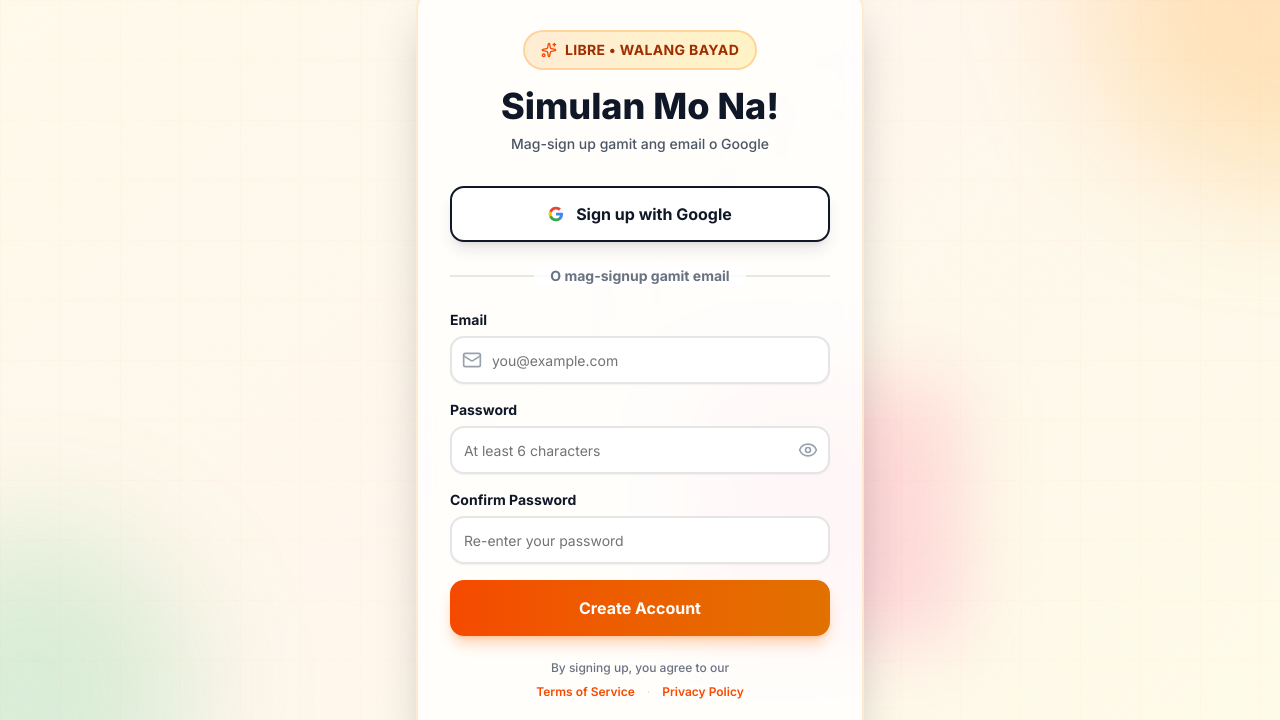
Test: Email Signup - SignupPage › shows friendly message on rate limit
The width and height of the screenshot is (1280, 720).
(page scrolled)
Step 1. Type "test@example.com" into the field labelled "Email" → (640,360), box x1=450 y1=336 x2=830 y2=384
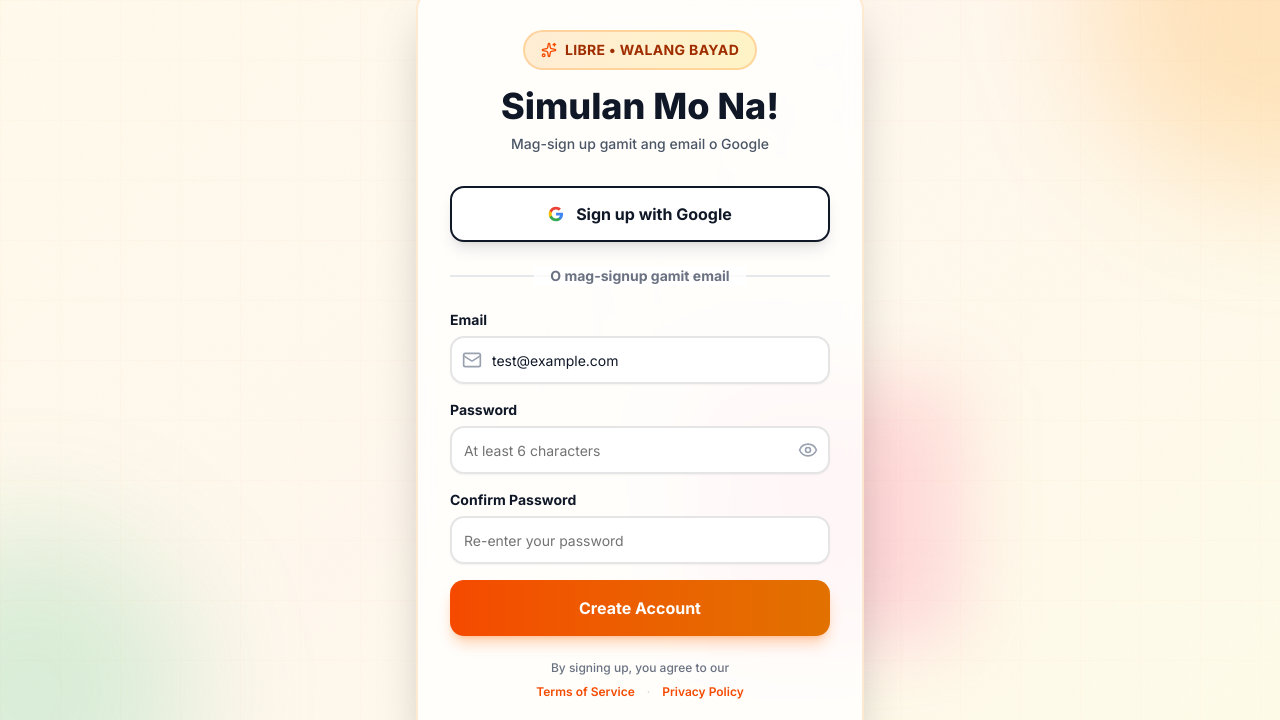
Step 2. Type "password123" into the password field labelled "Password" → (640,450), box x1=450 y1=426 x2=830 y2=474
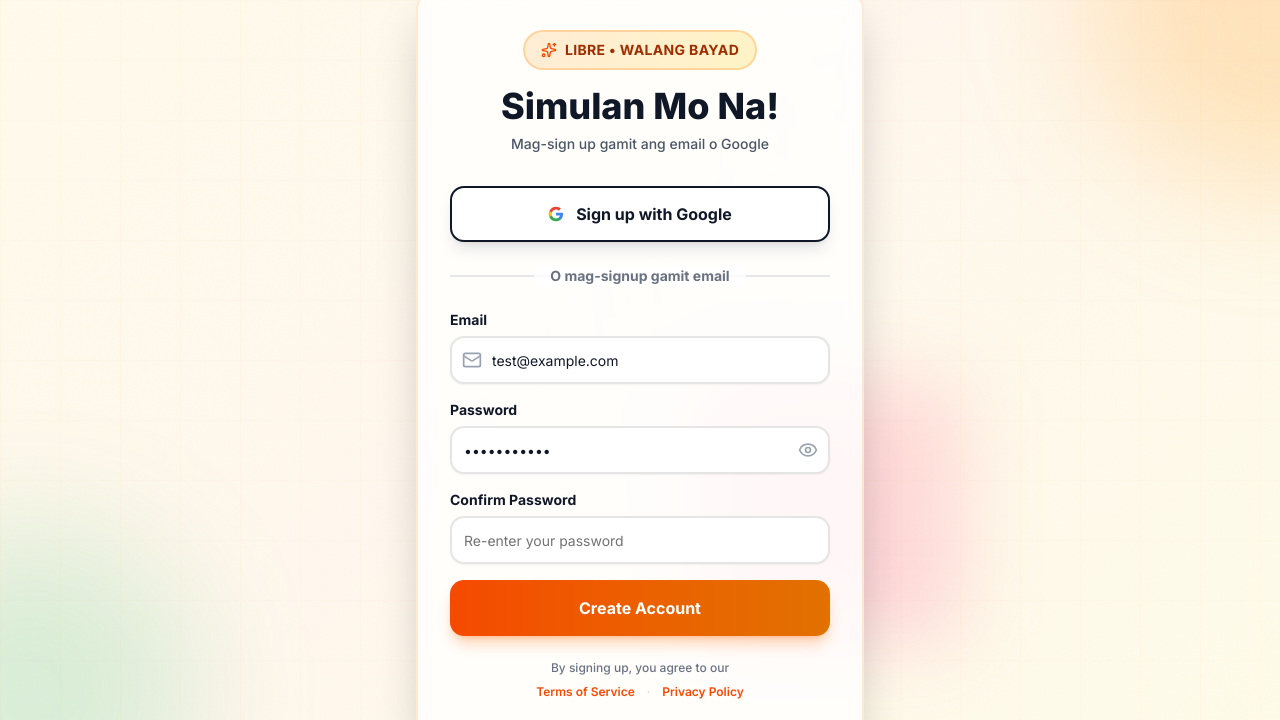
Step 3. Type "password123" into the password field labelled "Confirm Password" → (640,540), box x1=450 y1=516 x2=830 y2=564
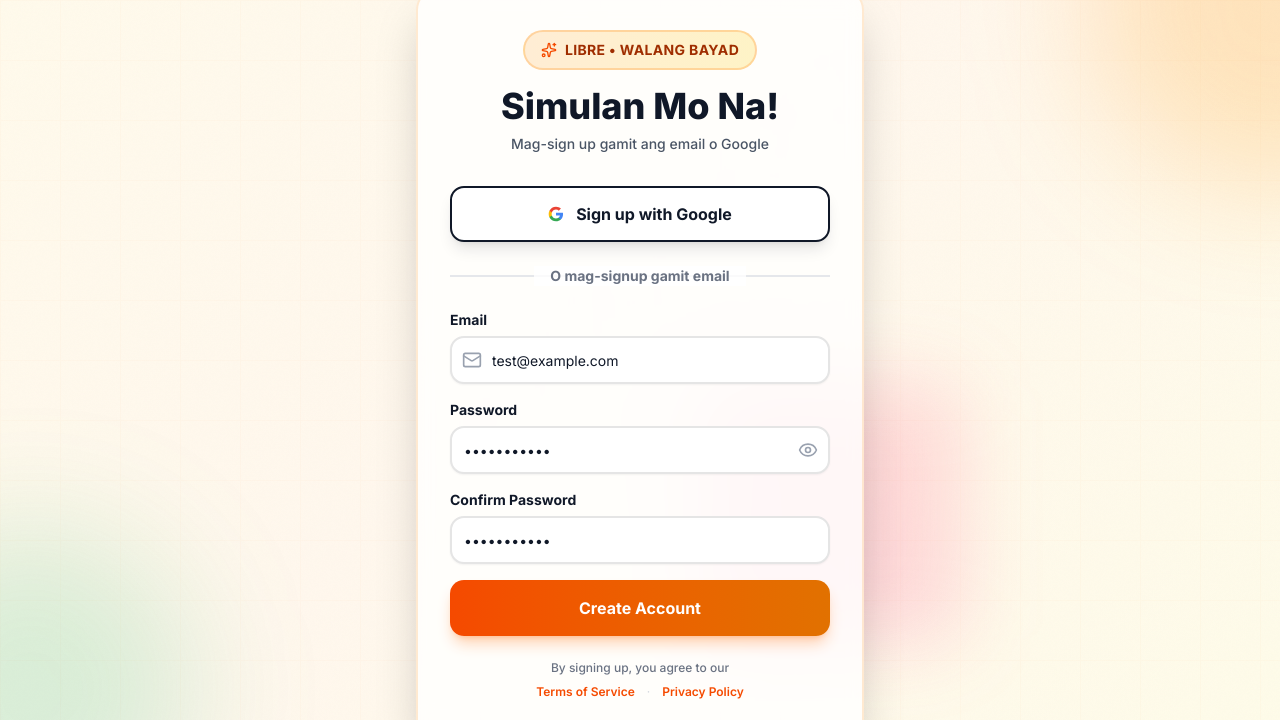
Step 4. Click the button "Create Account" → (640,608), box x1=450 y1=580 x2=830 y2=636
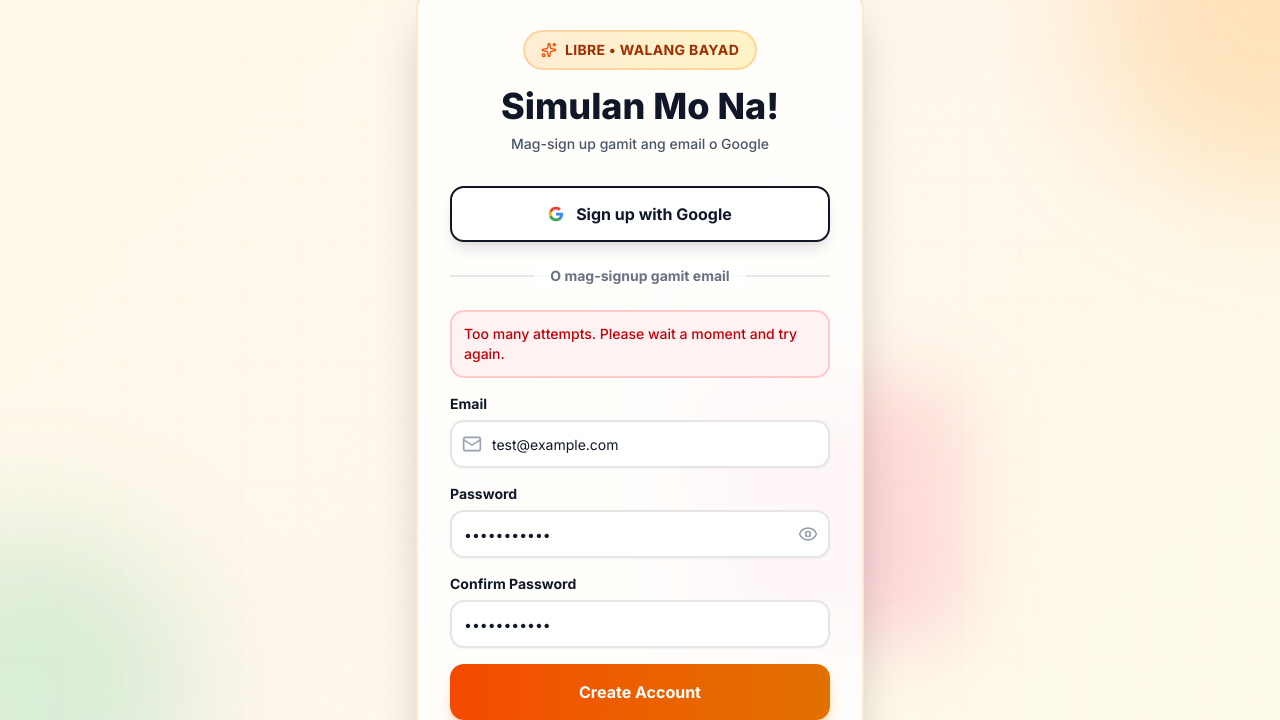
Expected: the text "Too many attempts. Please wait a moment and try again." is shown, x1=450 y1=310 x2=830 y2=378
